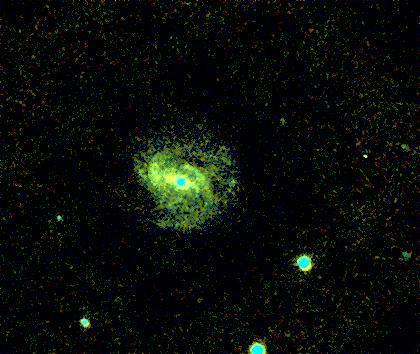star: (388, 132, 418, 162)
